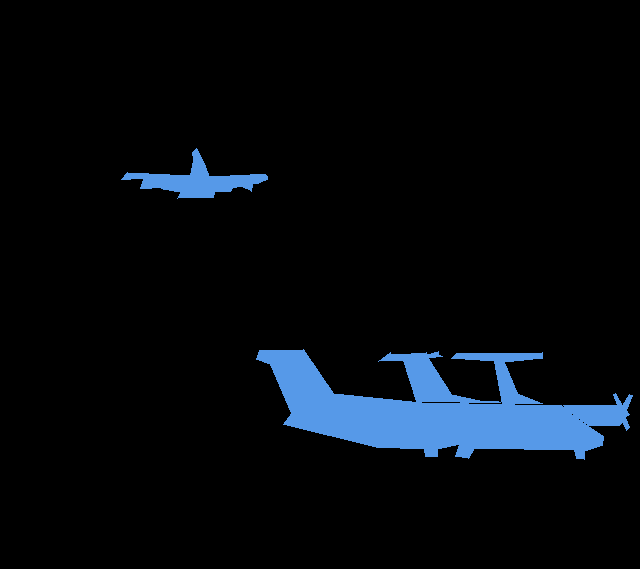Airplane: (256, 349, 603, 459), (378, 351, 633, 430), (121, 148, 268, 198), (451, 352, 543, 405)
